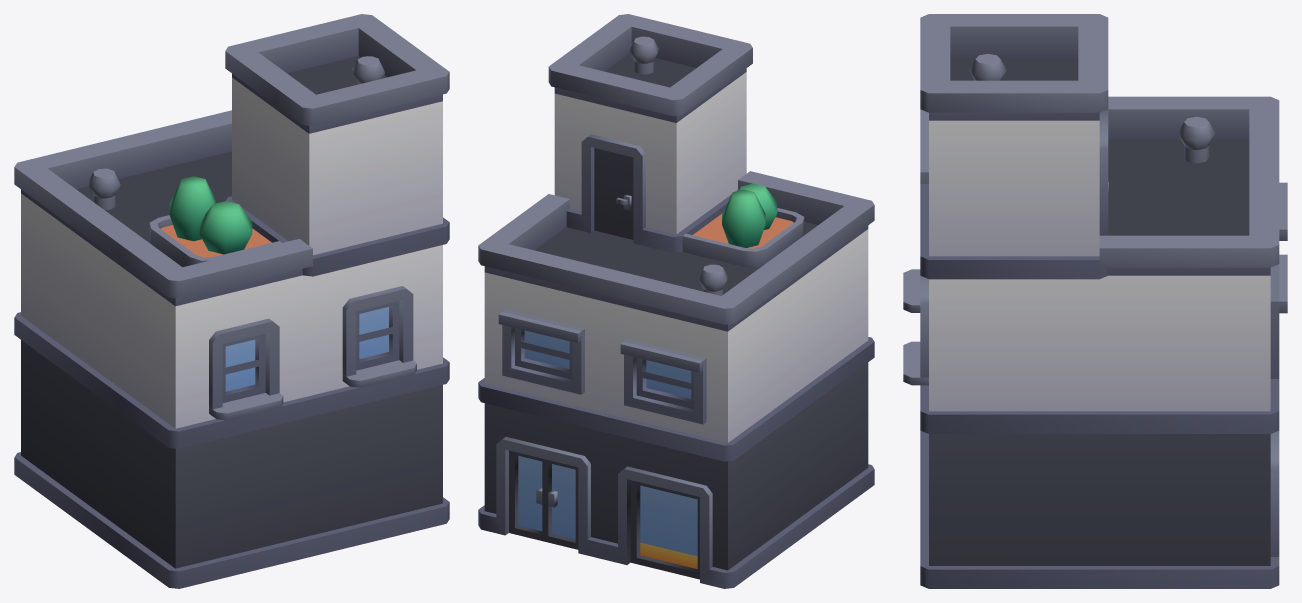
The model's file is commercial-building-d.glb.
3 views of the same model, side by side, from view 1: azimuth 30°, elevation 25°; view 2: azimuth 150°, elevation 25°; view 3: azimuth 270°, elevation 25° (orthographic). The views are drawn at different scales.
Visible parts, largest first — view 1: building-d; view 2: building-d; view 3: building-d.
Boxes of the visible parts, box(x1,y1,x2,y2) form: building-d: box(14, 14, 449, 588); building-d: box(478, 14, 874, 588); building-d: box(903, 14, 1287, 588).
Size of the model in its own units: 0.84 by 1.29 by 0.8999.
Materials: 1 (1 with a texture image).
